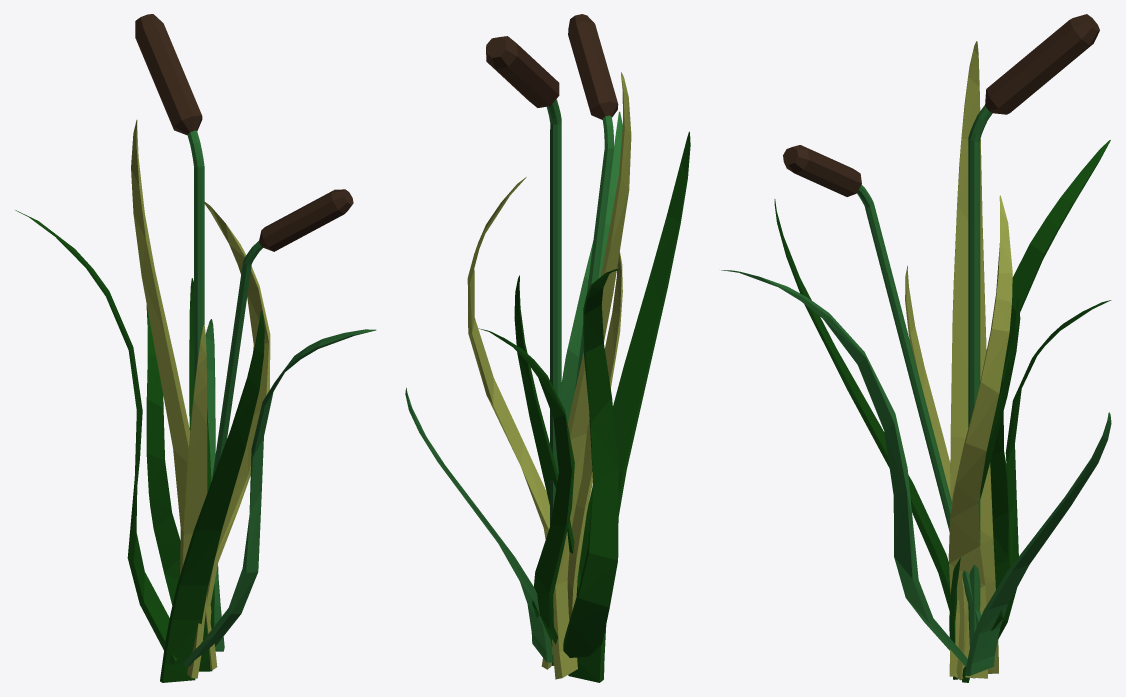
Rendered from Reed.fbx.
3 renders of one model, left to right at view 1: azimuth 30°, elevation 25°; view 2: azimuth 150°, elevation 25°; view 3: azimuth 270°, elevation 25°, orthographic. The views are drawn at different scales.
Parts seen in each view (by area): view 1: Cube.019; view 2: Cube.019; view 3: Cube.019.
Boxes of the visible parts, x1=… form: Cube.019: x1=15, y1=14, x2=376, y2=682; Cube.019: x1=405, y1=14, x2=690, y2=682; Cube.019: x1=721, y1=14, x2=1111, y2=682.
Size of the model in its own units: 337 by 1013 by 536.
